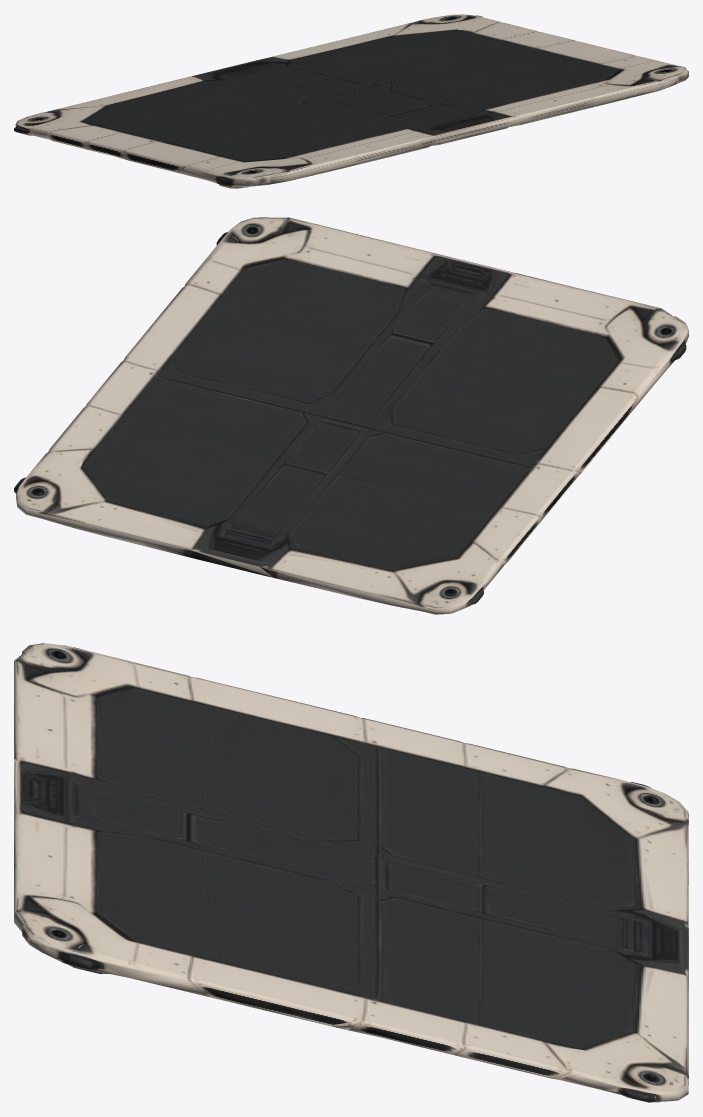
The model's file is spacecraft-ceiling-repair.glb.
3 views of the same model, one above another, from view 1: azimuth 30°, elevation 25°; view 2: azimuth 150°, elevation 25°; view 3: azimuth 270°, elevation 25° (orthographic). The views are drawn at different scales.
Visible parts, largest first — view 1: 驾驶顶板材质修正; view 2: 驾驶顶板材质修正; view 3: 驾驶顶板材质修正.
Boxes of the visible parts, bbox=[...] form: 驾驶顶板材质修正: bbox=[14, 14, 688, 188]; 驾驶顶板材质修正: bbox=[14, 217, 688, 614]; 驾驶顶板材质修正: bbox=[14, 643, 688, 1102].
Bounding box in the file's own units: 3.6 × 0.9412 × 3.3.
1 material, 1 textured.
